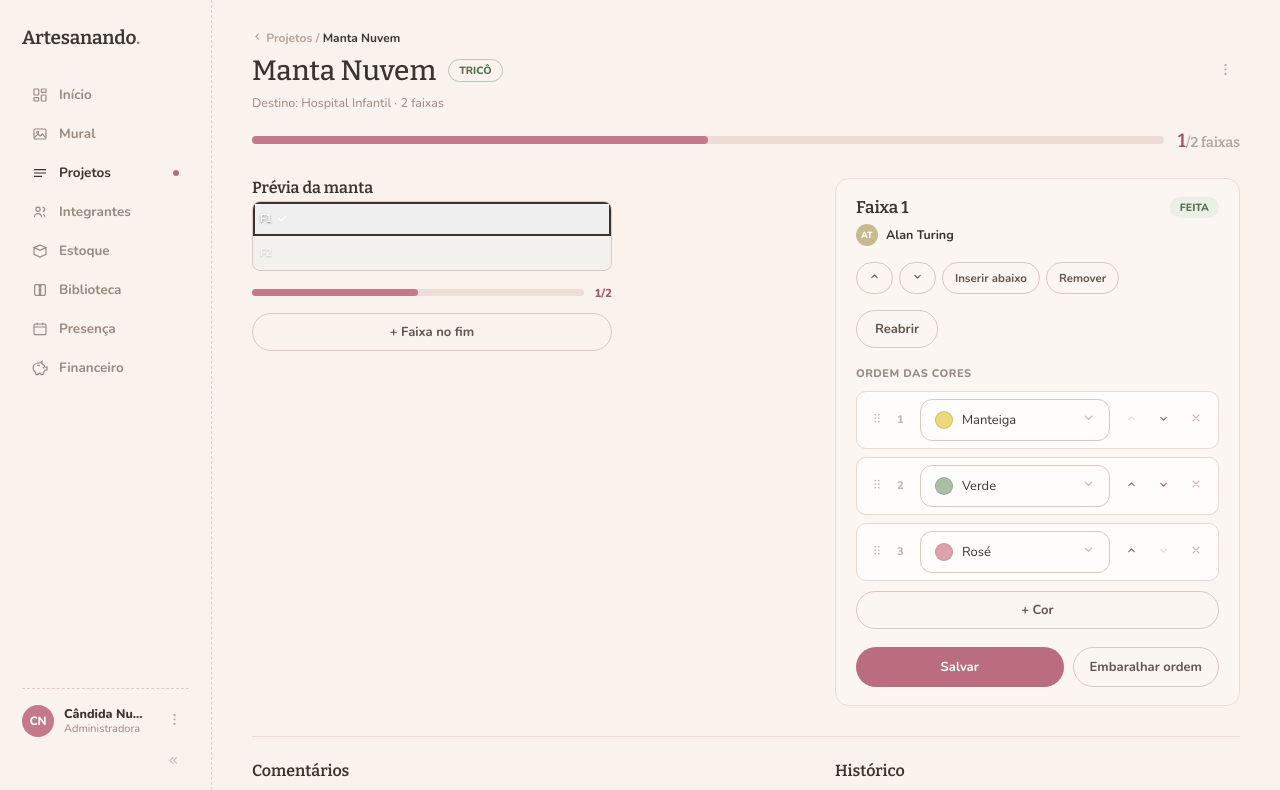
Test: projetos (M3) › faixa a fazer pode ser pega por quem tem permissão de progresso
F2 está como "a fazer" no fake
Click the button named "Faixa 2, a fazer": (263, 253) [253,236,611,270]
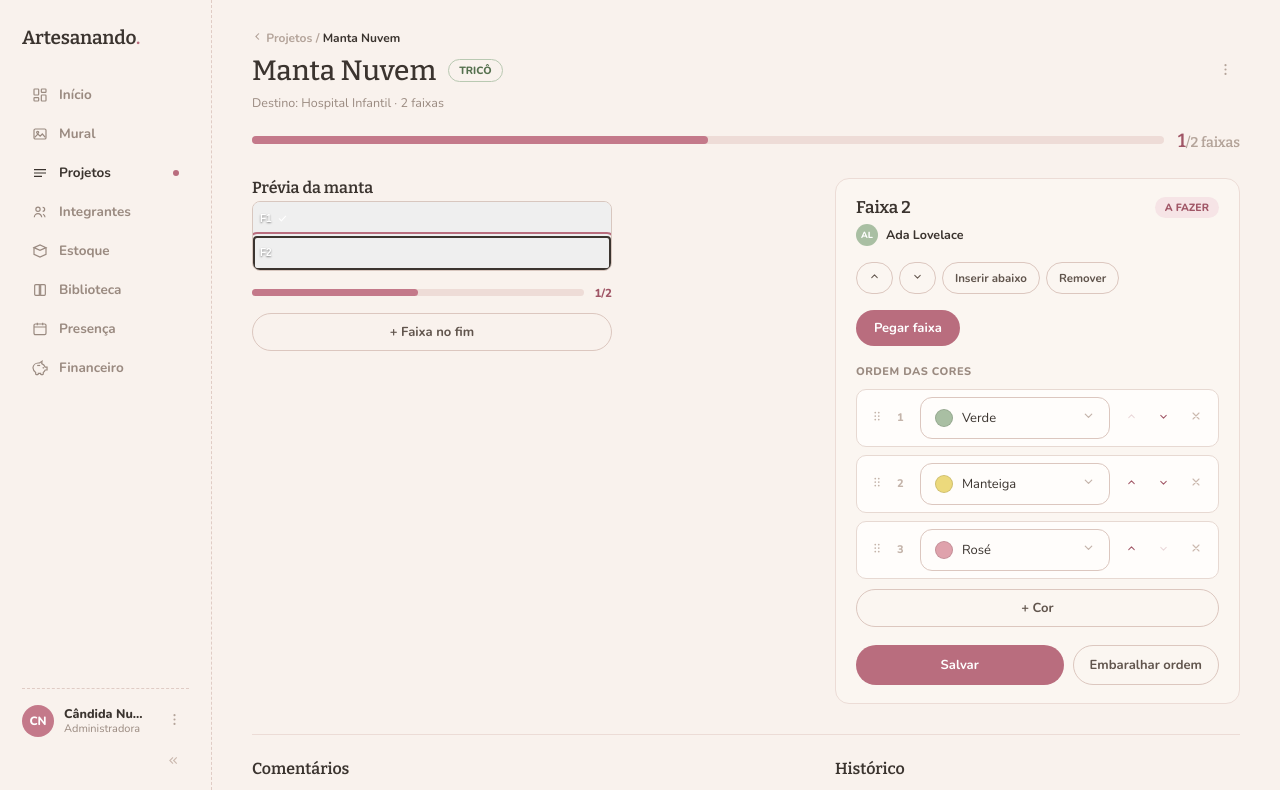
Result: the button "Pegar faixa" is shown at [856,310,960,346]
